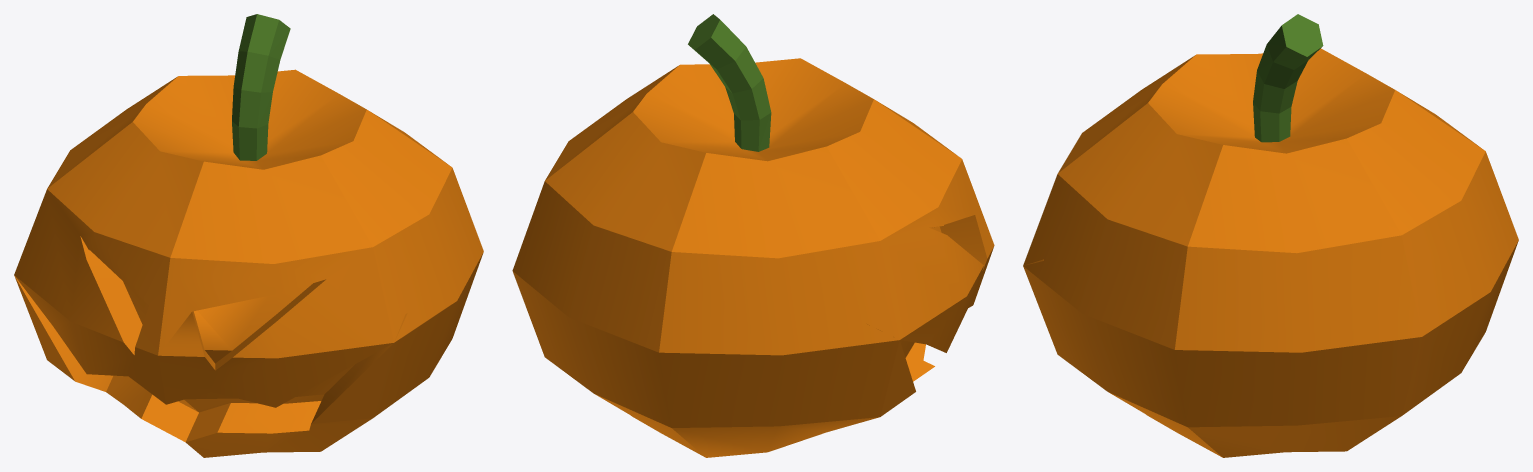
The model's file is Pumpkin.gltf.
The picture shows the model from 3 angles, left to right: view 1: azimuth 30°, elevation 25°; view 2: azimuth 150°, elevation 25°; view 3: azimuth 270°, elevation 25°; orthographic projection. The views are drawn at different scales.
Parts seen in each view (by area): view 1: Pumpkin; view 2: Pumpkin; view 3: Pumpkin.
Part boxes in pixels (x1,y1,x2,y2): Pumpkin: (14,14,483,457); Pumpkin: (512,14,994,457); Pumpkin: (1023,14,1518,457).
Size of the model in its own units: 0.2659 by 0.2523 by 0.2795.
